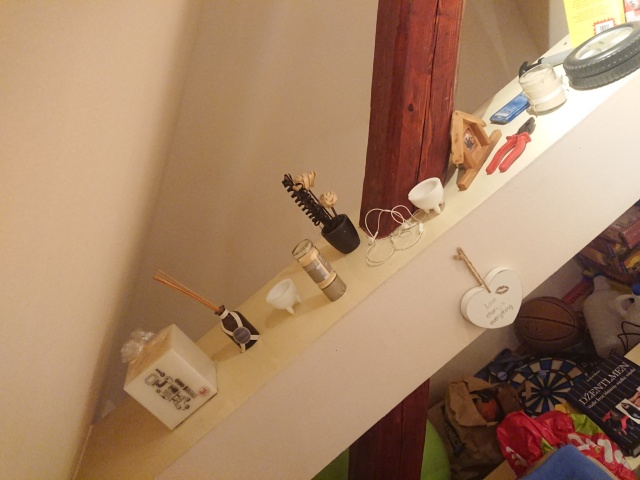Kotanyi Garlic Granules 70g: (291, 237, 348, 303)
